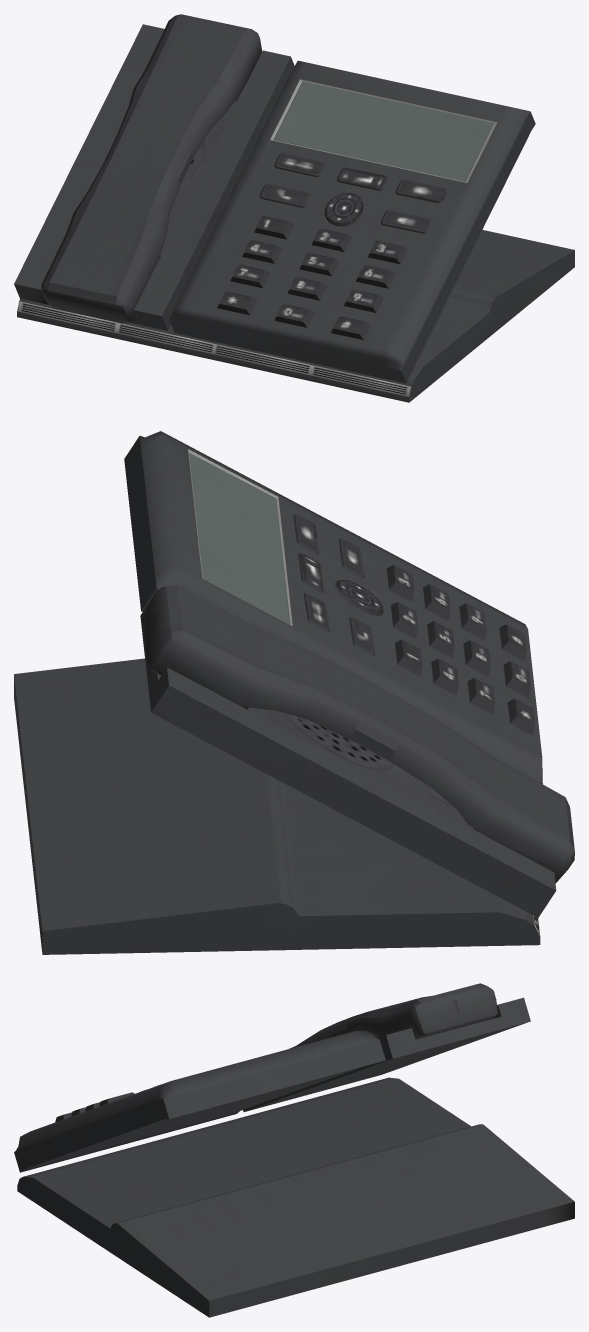
The model's file is Modular Asset.fbx.
3 renders of one model, top to bottom at view 1: azimuth 30°, elevation 25°; view 2: azimuth 150°, elevation 25°; view 3: azimuth 270°, elevation 25°, orthographic. The views are drawn at different scales.
Parts seen in each view (by area): view 1: Phone; view 2: Phone; view 3: Phone.
Part boxes in pixels (<box>): Phone: <box>14,14,574,402</box>; Phone: <box>14,431,574,954</box>; Phone: <box>14,983,574,1317</box>.
Bounding box in the file's own units: 2.5 × 1.07 × 2.59.
Materials: 2 (2 with a texture image).
